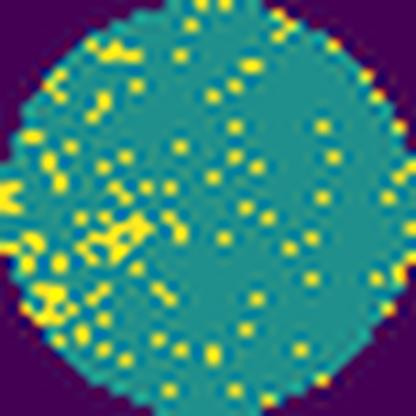Loc: (69, 208, 155, 267), (30, 278, 72, 328)
